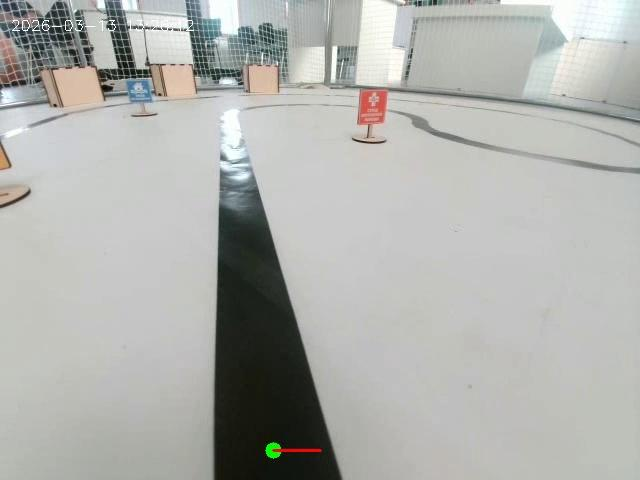flood: (118, 74, 168, 126)
industrial: (0, 125, 57, 214)
medical: (349, 78, 398, 153)
